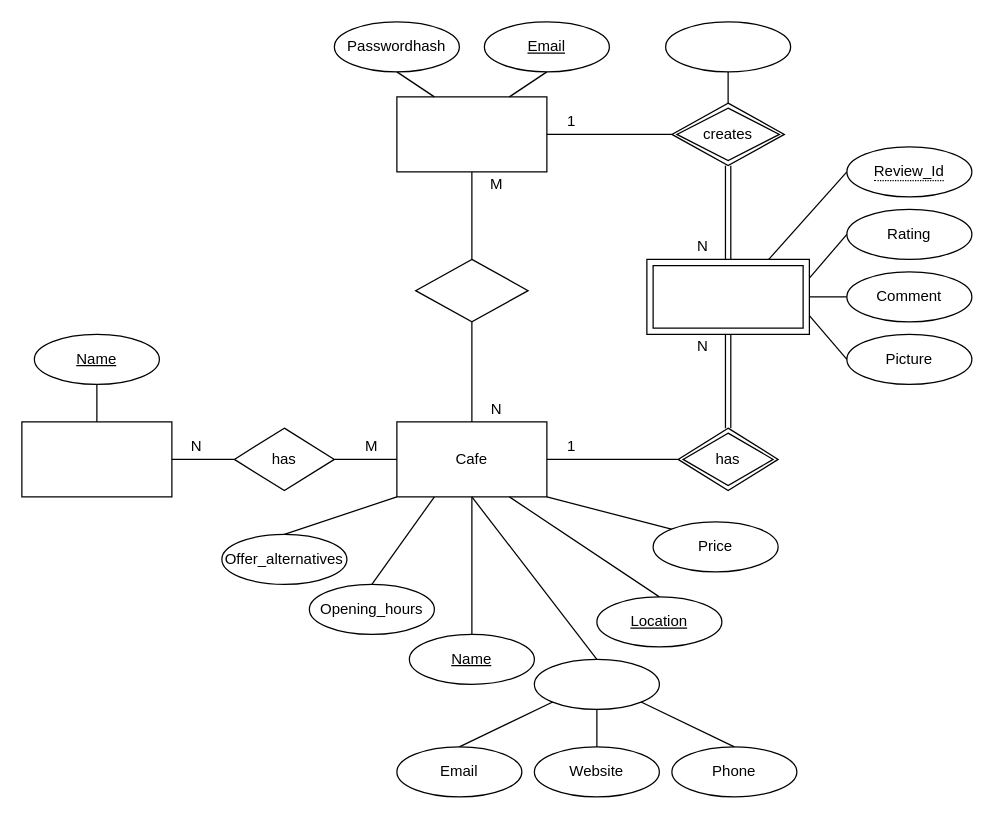
Some shapes in this 994 by 819 pixel diagram are drawn without their labels. Here are the shapes that lost their labels. From the top down, the box of each, then its label:
(664, 21, 791, 72): Date
(396, 96, 547, 172): User
(414, 258, 528, 322): favourites
(646, 258, 809, 334): Review
(21, 421, 172, 497): Category
(533, 658, 659, 709): Contact
